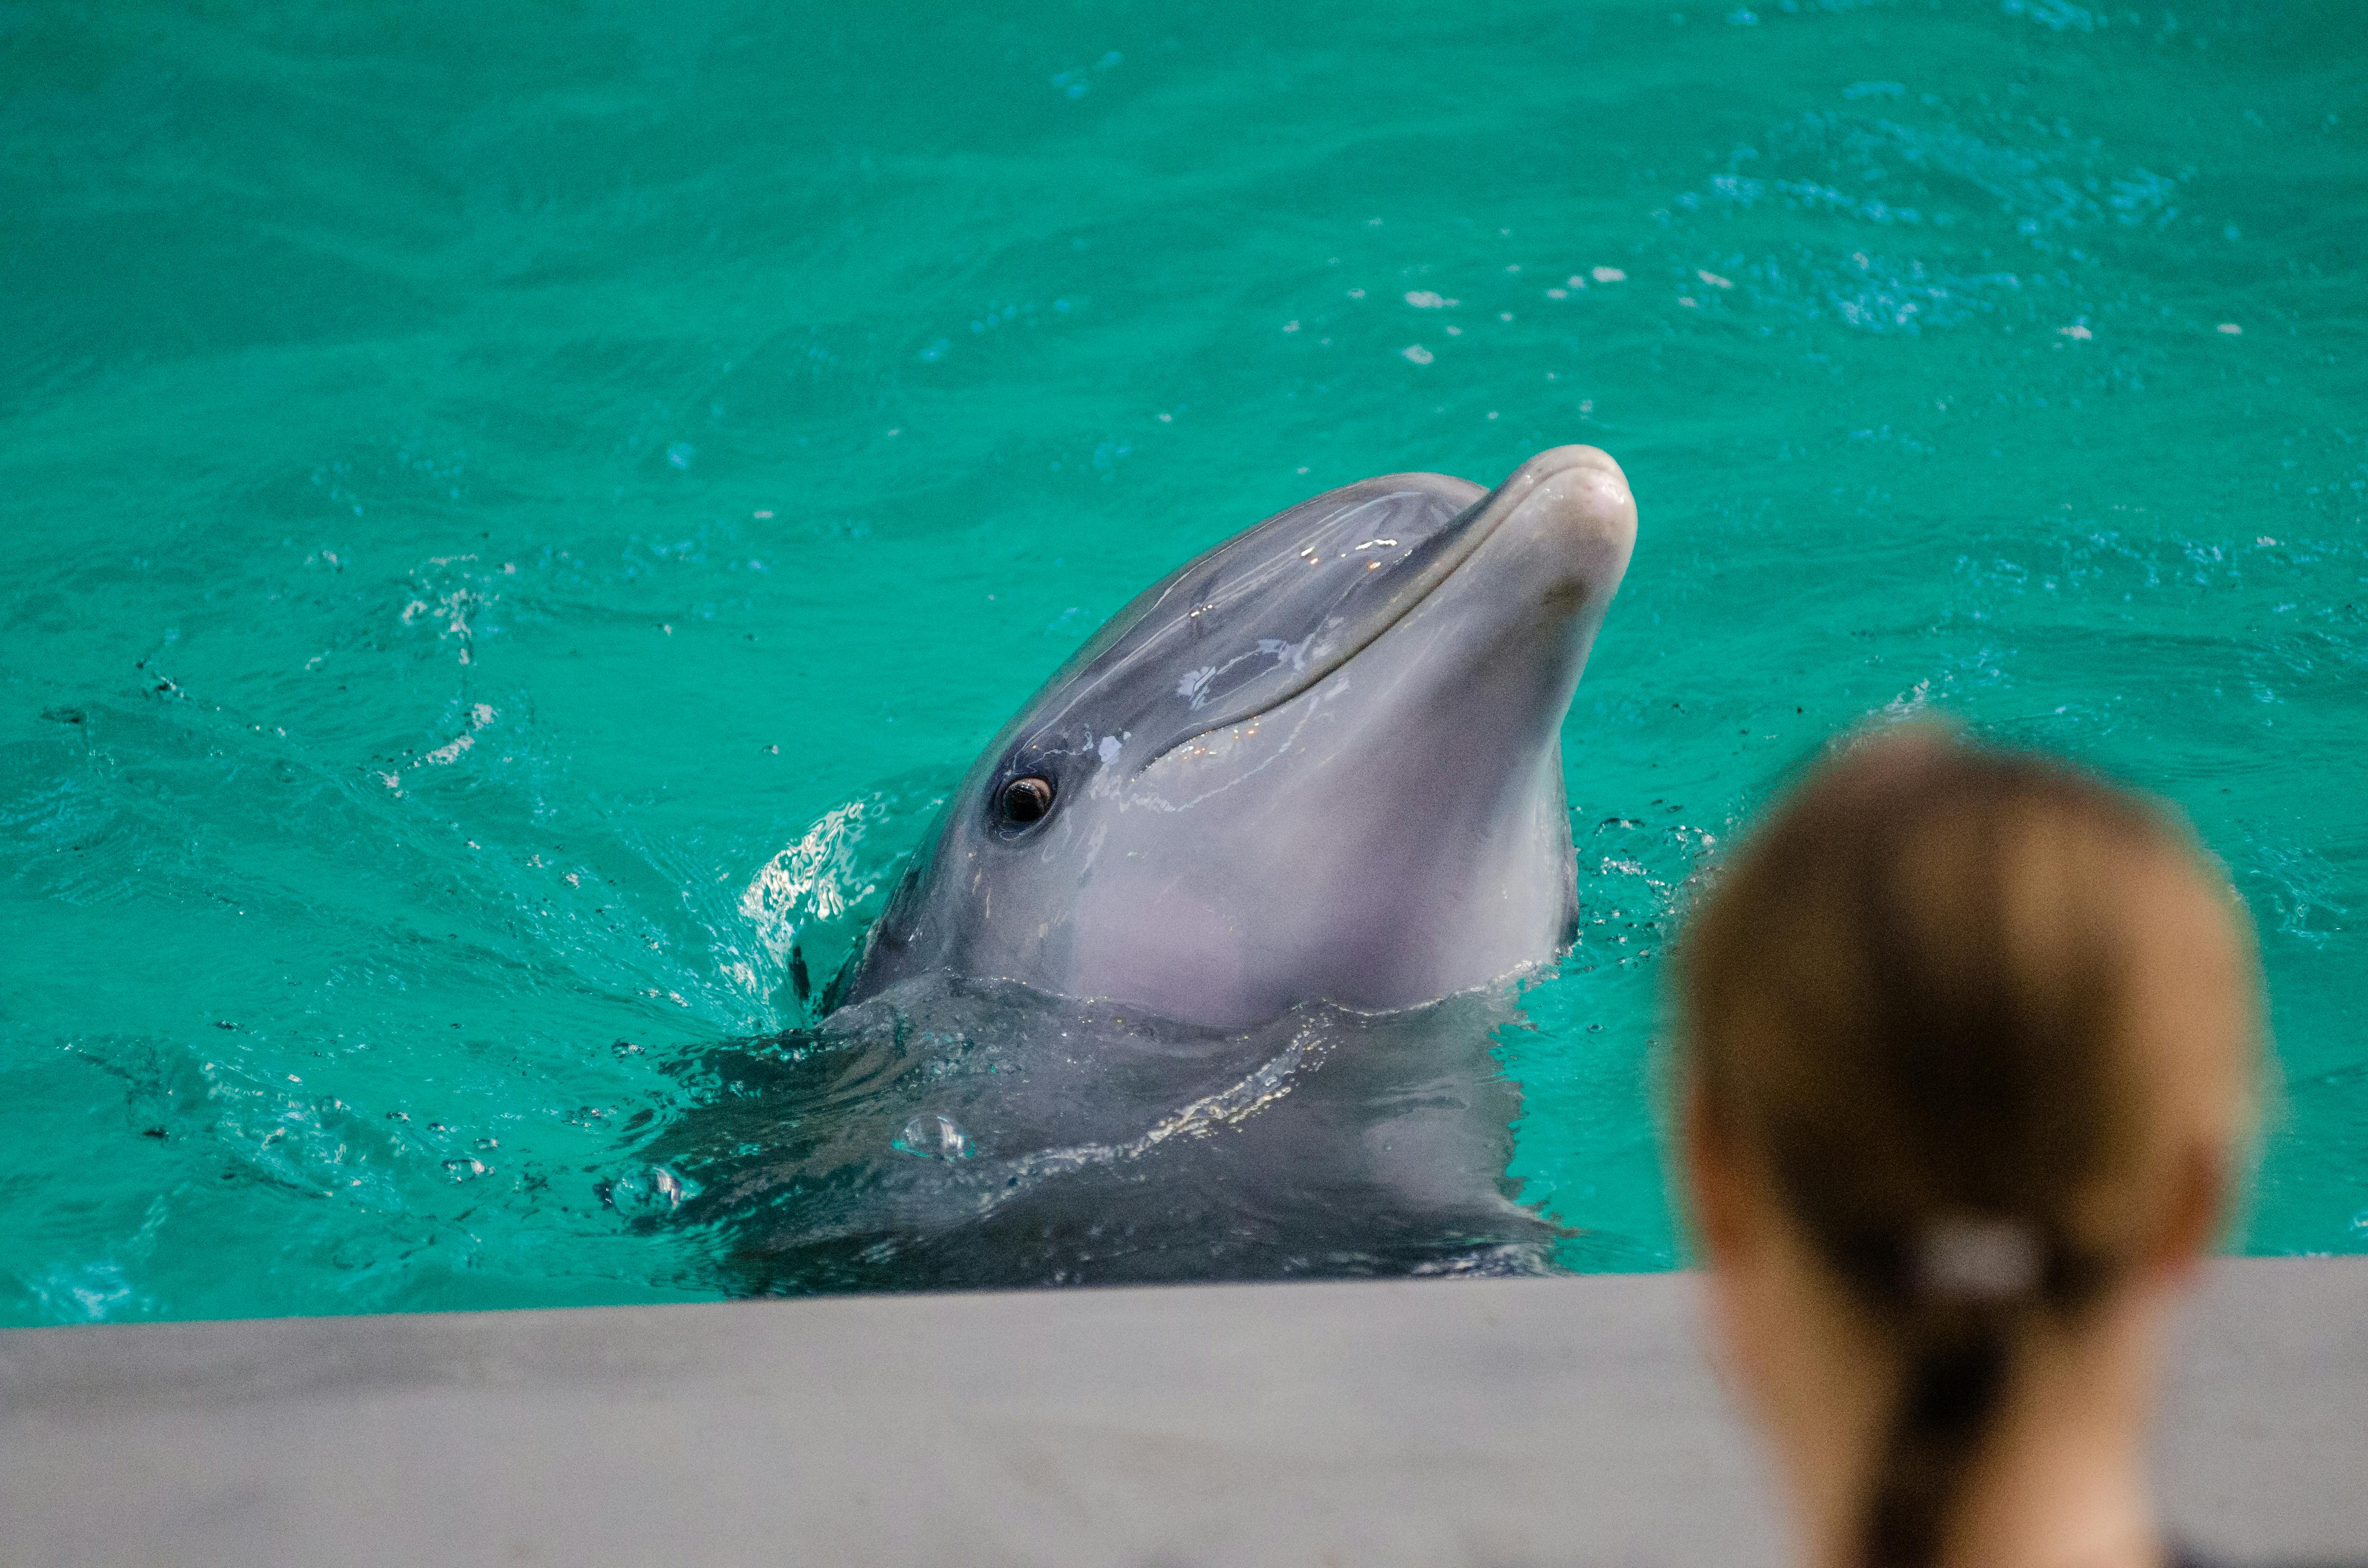dolphin: (760, 434, 1642, 1269)
